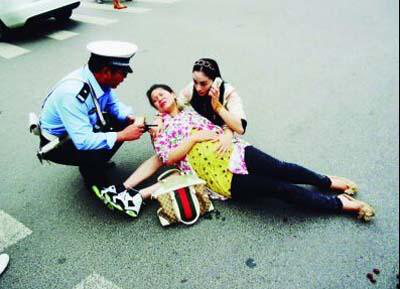fall: (125, 79, 388, 231)
